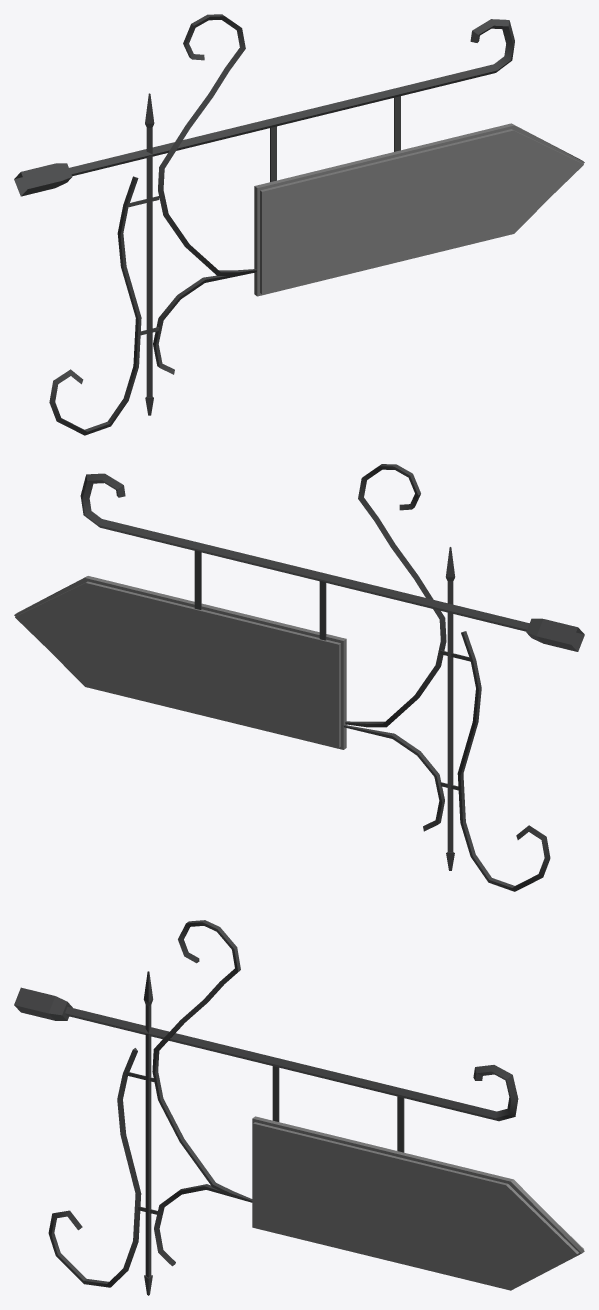
The model's file is SM_storesign_02.fbx.
The picture shows the model from 3 angles, top to bottom: view 1: azimuth 30°, elevation 25°; view 2: azimuth 150°, elevation 25°; view 3: azimuth 330°, elevation 25°; orthographic projection.
Parts seen in each view (by area): view 1: Object090; view 2: Object090; view 3: Object090.
Part boxes in pixels (x1,y1,x2,y2): Object090: [14, 14, 584, 435]; Object090: [14, 464, 584, 891]; Object090: [14, 920, 584, 1295].
Size of the model in its own units: 66.12 by 2.79 by 44.19.
